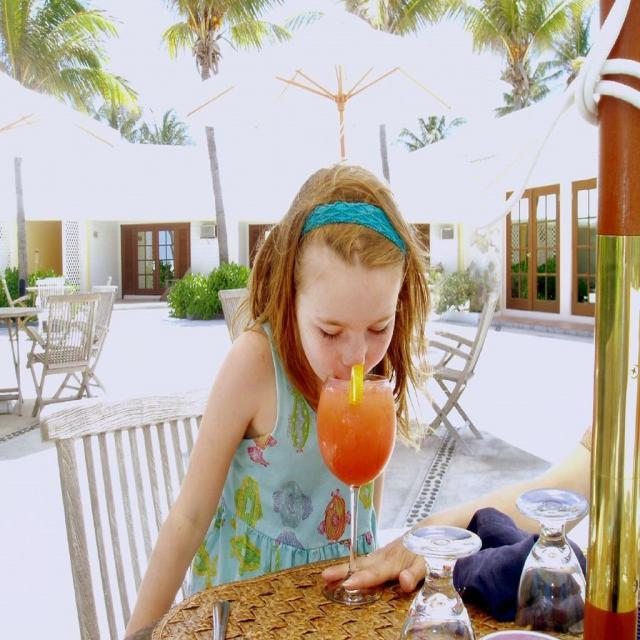Juice: (318, 367, 407, 523)
